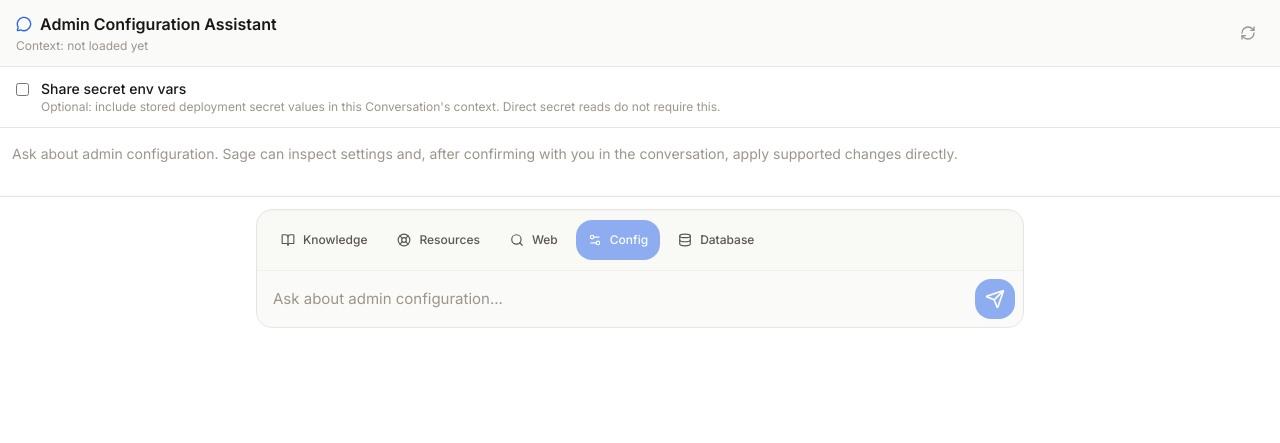
AdminConfigAssistant › shows a reduced-context notice when prompt planning trims context
This screenshot has width=1280, height=443.
In the text box labelled "Ask about admin configuration...": (616, 299) [265,279,967,319], type "Review deployment config."
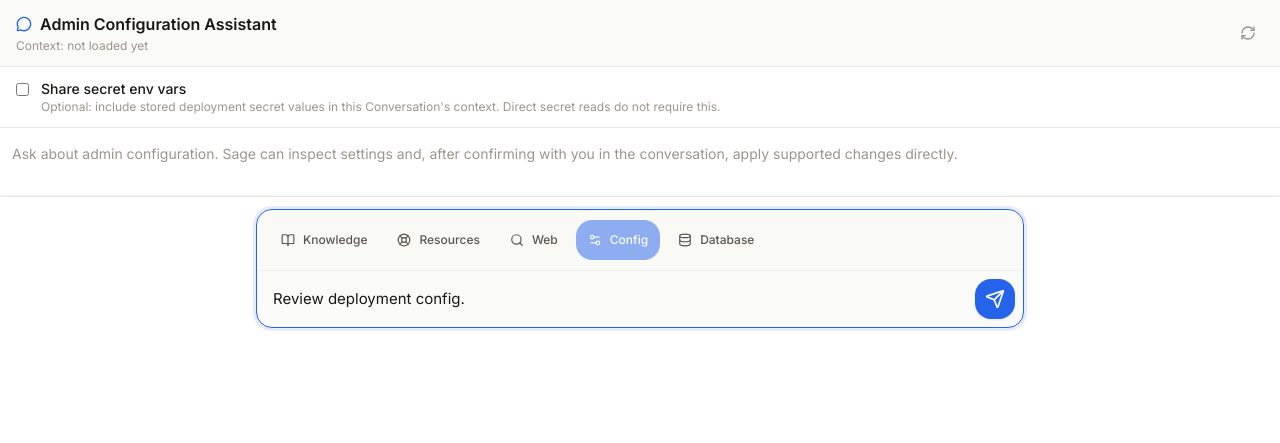
Click the button named "Send message": click(995, 299) [975,279,1015,319]
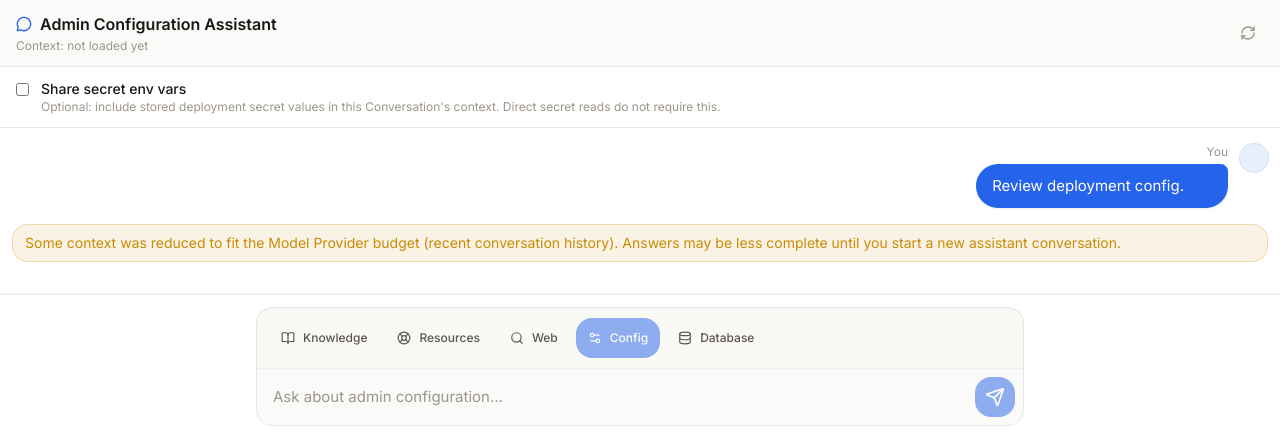
expect the text named "Reduced context notice" does not show "PROMPT BUDGET NOTE": met, box [12,224,1268,262]
expect the text named "Reduced context notice" shows "recent conversation history": met, box [25,234,1121,251]
